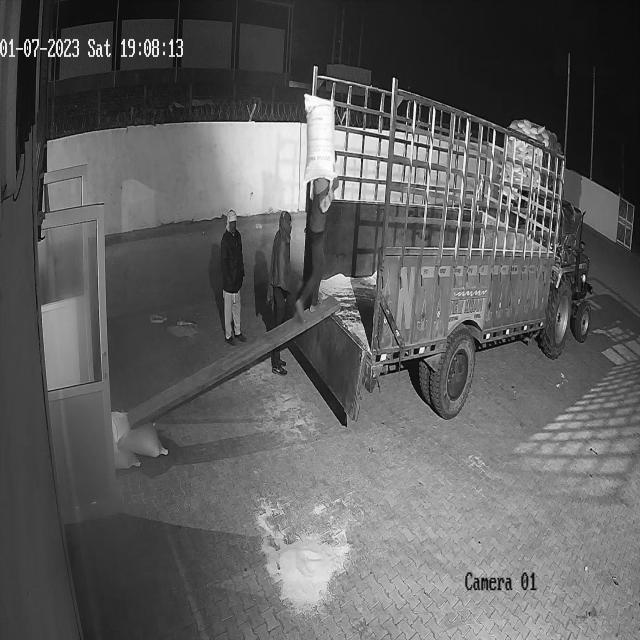sack: (304, 92, 335, 182), (111, 410, 167, 458)
